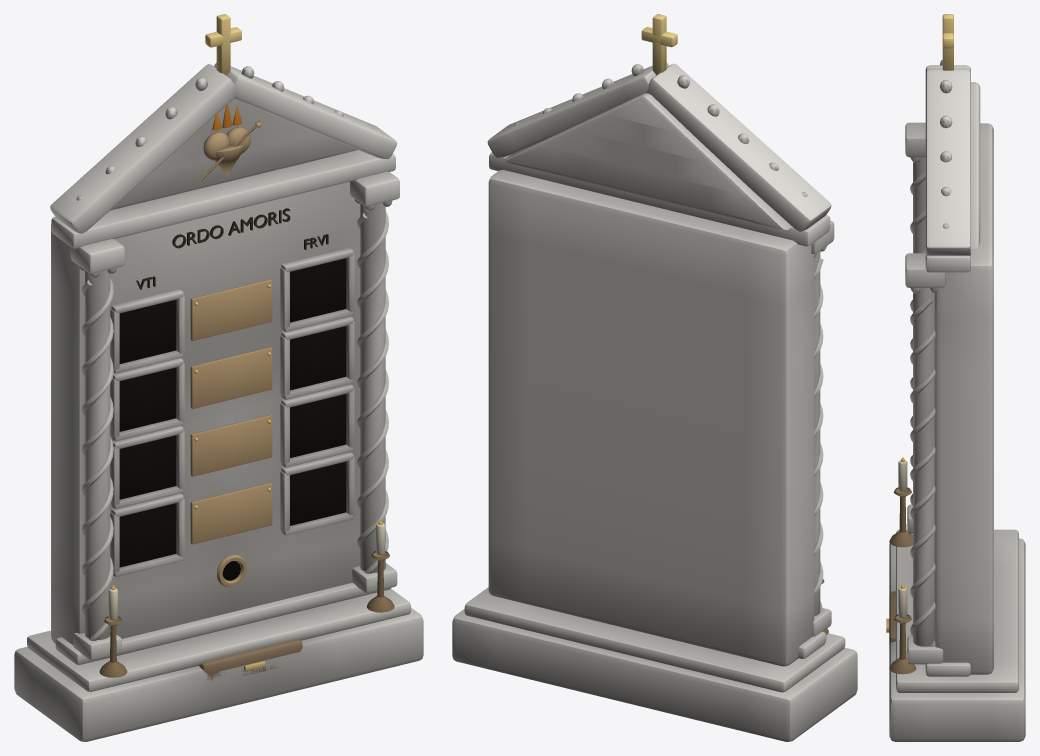
The model's file is obj_kit_buttonlock.glb.
The picture shows the model from 3 angles, left to right: view 1: azimuth 30°, elevation 25°; view 2: azimuth 150°, elevation 25°; view 3: azimuth 270°, elevation 25°; orthographic projection. The views are drawn at different scales.
Visible parts, largest first — view 1: Cube.002, Cube, Cube.001, Cube.003, Cube.009, gable, Cylinder, Cylinder.001, Cube.010, Cube.004, Cube.056, Cube.023 (+25 smaller); view 2: Cube.002, Cube, gable, Cube.001, Cube.009, Cube.010, Cube.003, Cylinder, Cube.011, twist; view 3: Cube.002, Cube, Cube.010, Cube.001, Cylinder.001, gable, twist.003, Cube.008, Cylinder, twist.002, Cube.003, Cube.006 (+8 smaller).
Part boxes in pixels (x1,y1,x2,y2): Cube.002: (51,181,360,644); Cube: (14,607,423,741); Cube.001: (27,589,410,691); Cube.003: (51,150,395,248); Cube.009: (50,64,236,233); gable: (110,98,357,210); Cylinder: (85,270,110,639); Cylinder.001: (360,203,385,572); Cube.010: (214,63,397,159); Cube.004: (55,583,390,664); Cube.056: (190,482,272,544); Cube.023: (190,279,272,340); Cube.002: (488,170,814,666); Cube: (452,609,857,741); gable: (504,93,790,230); Cube.001: (464,587,845,692); Cube.009: (646,63,831,231); Cube.010: (487,62,668,157); Cube.003: (489,152,830,246); Cylinder: (814,251,820,616); Cube.011: (652,14,666,75); twist: (814,258,823,595); Cube.002: (934,123,993,674); Cube: (889,538,1025,741); Cube.010: (925,70,970,255); Cube.001: (896,529,1018,692); Cylinder.001: (913,288,934,646); gable: (971,82,980,249); twist.003: (910,298,935,636); Cube.008: (905,253,945,287); Cylinder: (913,157,925,253); twist.002: (910,329,935,646); Cube.003: (925,255,970,272); Cube.006: (905,122,925,157).
Bounding box in the file's own units: 1.7 × 3.14 × 0.613.
